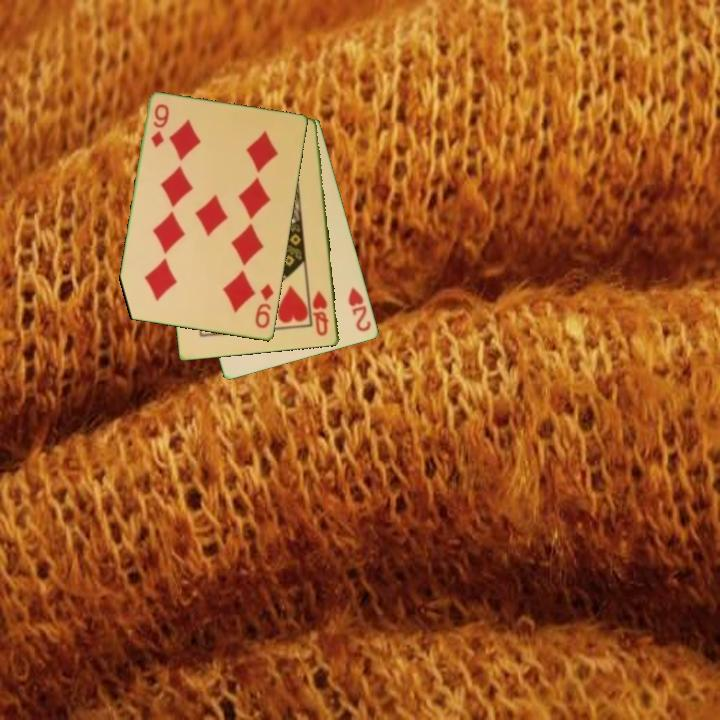2h: (345, 283, 374, 335)
9d: (252, 281, 277, 332), (148, 101, 172, 151)
Qh: (309, 287, 332, 339)
